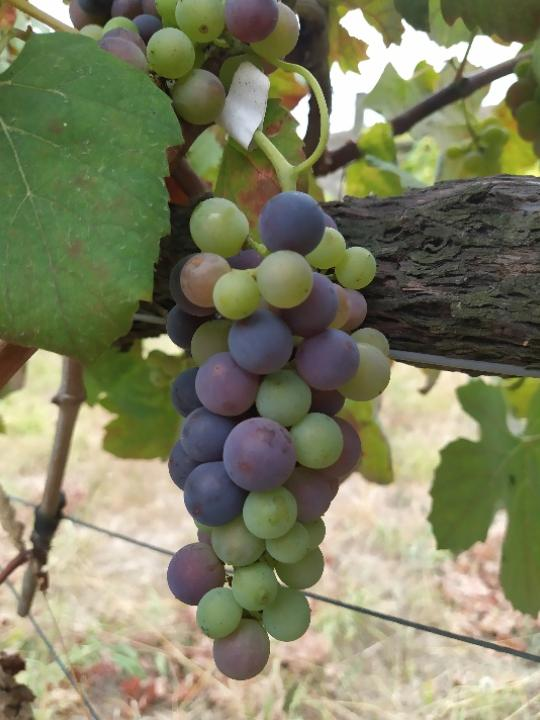grape: (162, 187, 394, 684)
